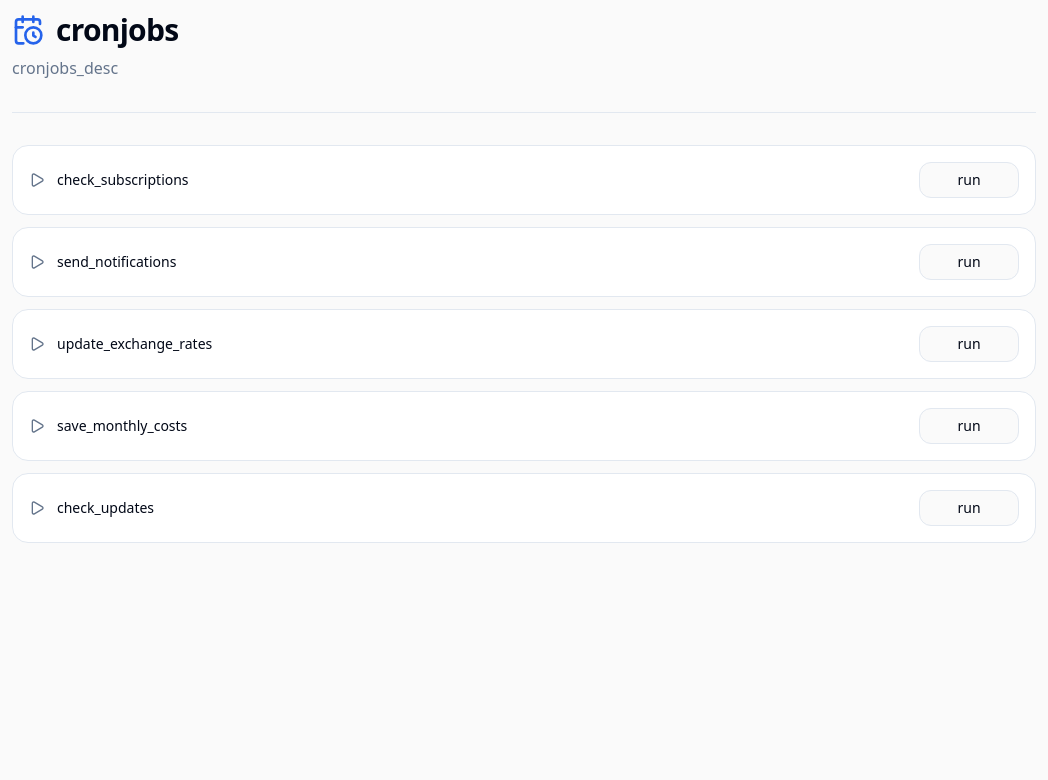
Test: CronjobsTab › handles error run (Error instance)
Click the button "run" in the row of "send_notifications" at {"x": 969, "y": 262}, box [919,244,1019,280]
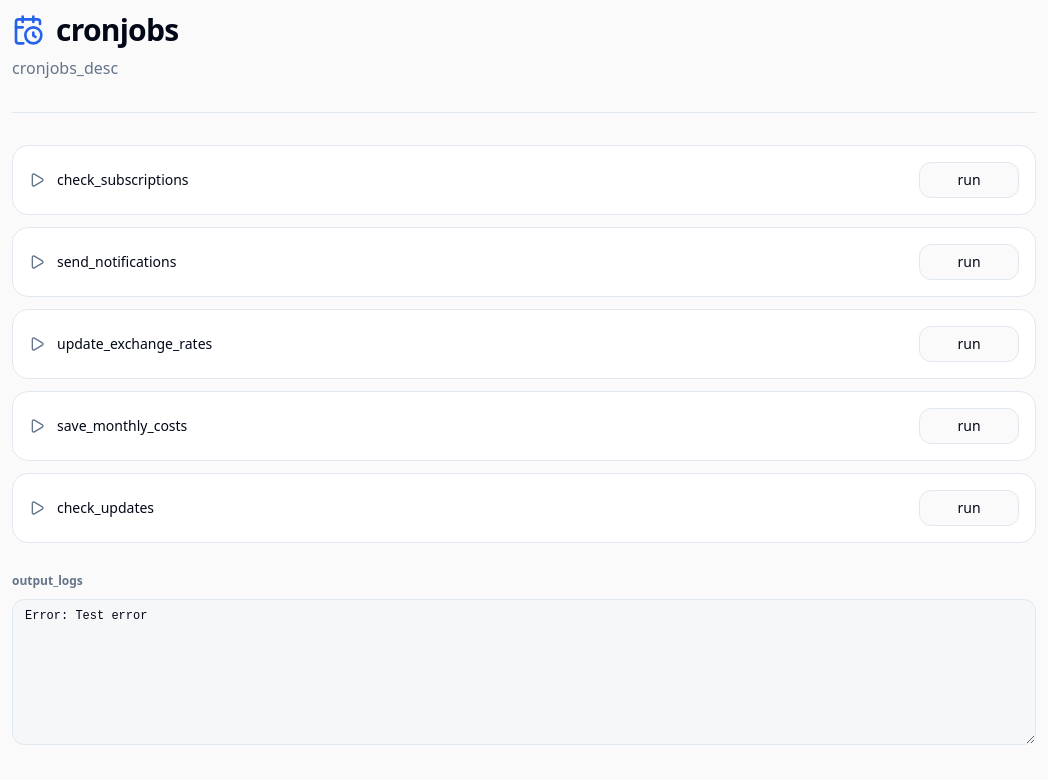
expect the text box holds "Error: Test error": met, box [12,599,1036,745]
